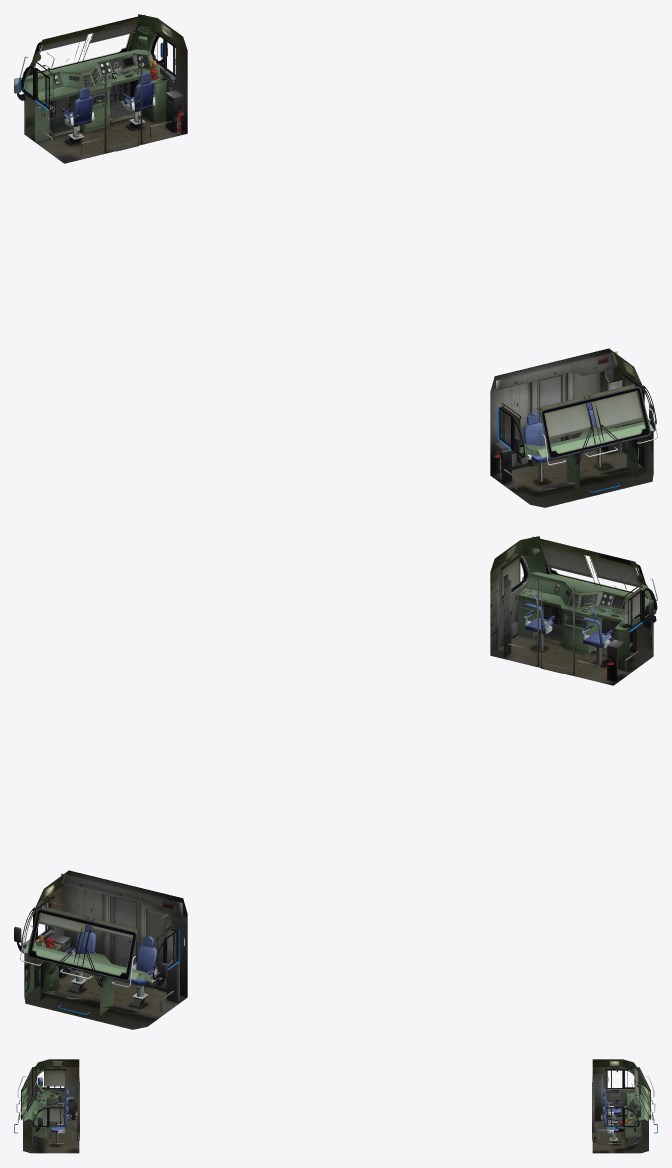
The model's file is EP1m-cabview.gltf.
3 views of the same model, one above another, from view 1: azimuth 30°, elevation 25°; view 2: azimuth 150°, elevation 25°; view 3: azimuth 270°, elevation 25° (orthographic). The views are drawn at different scales.
Visible parts, largest first — view 1: CAB1, Pult, windows, light; view 2: CAB1, Pult, windows; view 3: CAB1, Pult, windows, light.
Part boxes in pixels (bbox=[...]): CAB1: bbox=[20, 14, 657, 507]; Pult: bbox=[26, 18, 653, 491]; windows: bbox=[21, 33, 656, 459]; light: bbox=[25, 53, 166, 102]; CAB1: bbox=[20, 536, 657, 1029]; Pult: bbox=[23, 572, 650, 1015]; windows: bbox=[21, 558, 657, 981]; CAB1: bbox=[14, 1059, 657, 1153]; Pult: bbox=[23, 1084, 648, 1146]; windows: bbox=[21, 1067, 650, 1127]; light: bbox=[615, 1086, 640, 1128].
Size of the model in its own units: 3.64 by 2.22 by 21.93.
11 materials, 11 textured.
